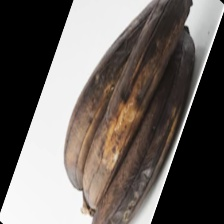banana: (61, 2, 203, 192)
